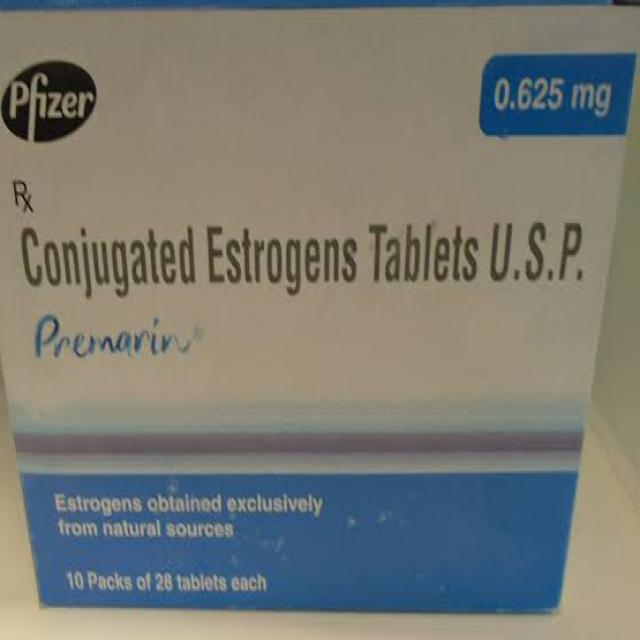drug-name: (25, 310, 207, 370)
